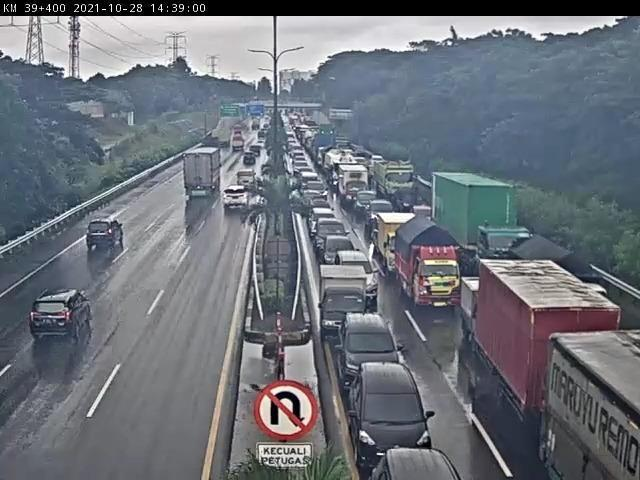car: (348, 362, 439, 469), (339, 315, 408, 397), (364, 432, 460, 480), (317, 266, 374, 346), (31, 288, 91, 339), (375, 155, 420, 208), (312, 220, 351, 260), (323, 235, 360, 277), (87, 217, 124, 249), (367, 200, 396, 236), (309, 208, 339, 240), (221, 188, 250, 214), (305, 182, 329, 206), (356, 193, 378, 218), (237, 170, 257, 192), (243, 153, 257, 167)
truck: (478, 260, 622, 466), (432, 171, 535, 291), (507, 235, 604, 343), (395, 212, 465, 312), (377, 216, 423, 279), (181, 149, 222, 201), (339, 165, 372, 209), (200, 136, 220, 160)
